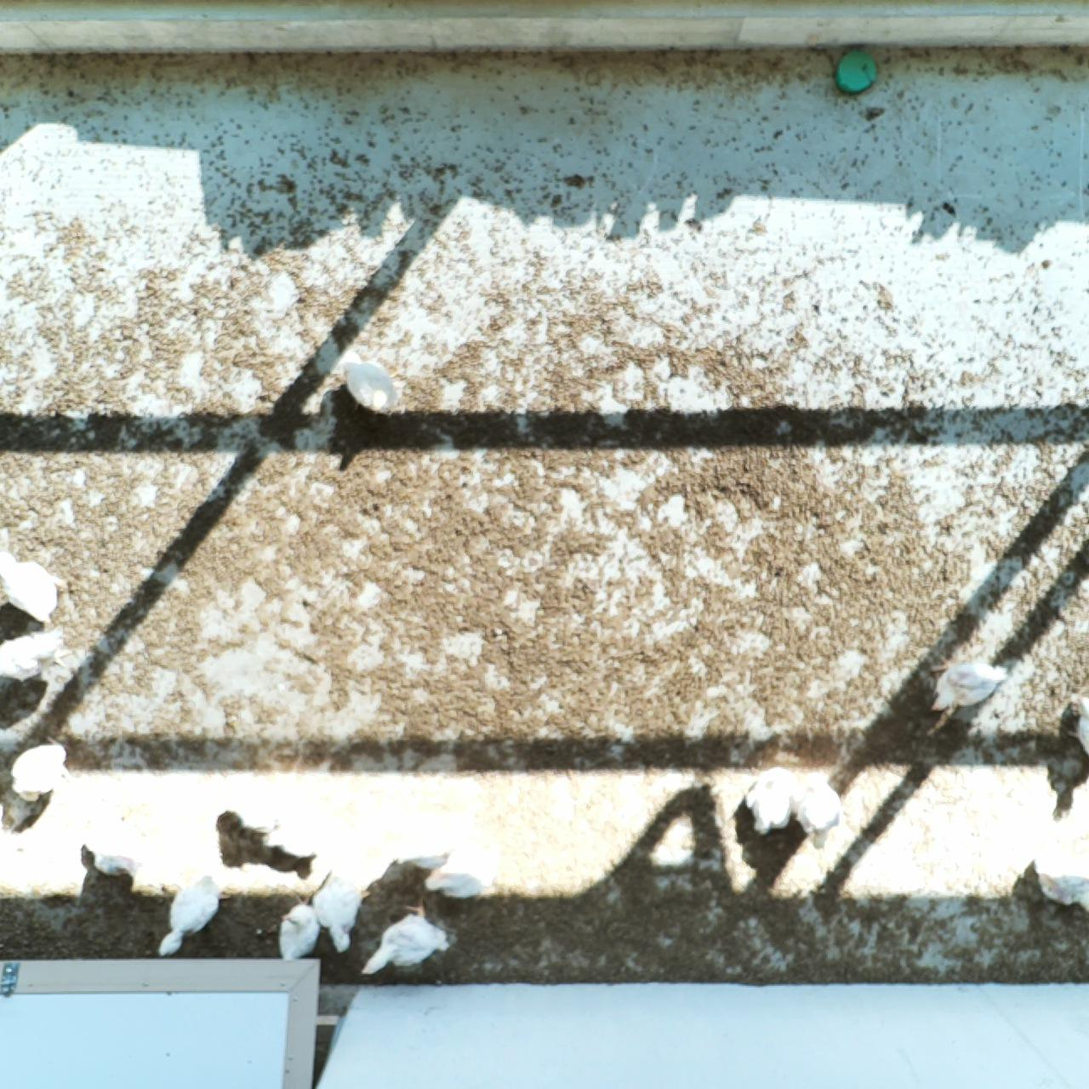chicken: (359, 901, 456, 976), (155, 869, 231, 959), (0, 545, 63, 630), (74, 805, 142, 882), (926, 656, 1016, 713), (788, 768, 847, 854), (311, 871, 371, 952), (7, 734, 76, 803), (742, 765, 801, 842), (257, 812, 344, 862), (0, 626, 71, 684), (1032, 845, 1089, 913), (418, 853, 500, 900), (385, 826, 470, 870), (339, 360, 401, 418), (272, 893, 322, 964), (1061, 690, 1089, 760)
